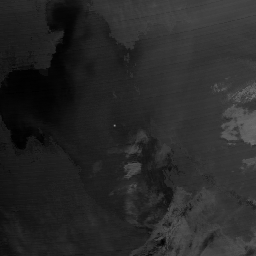Target: (112, 123, 116, 128)
